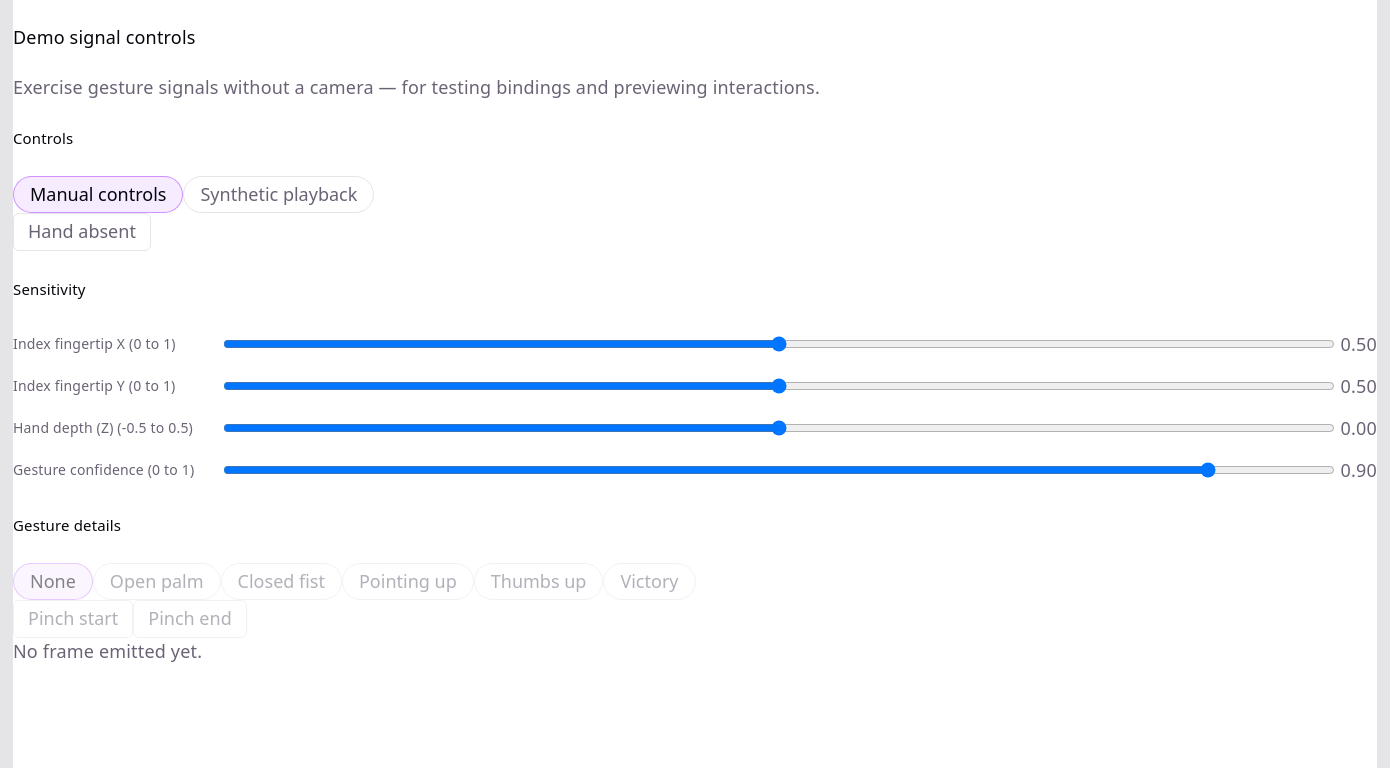
Test: DemoControlsPanel › Step advances exactly one scripted entry per click, deterministically
Click the radio button labelled "Synthetic playback": [279, 195] box x1=184 y1=176 x2=374 y2=213
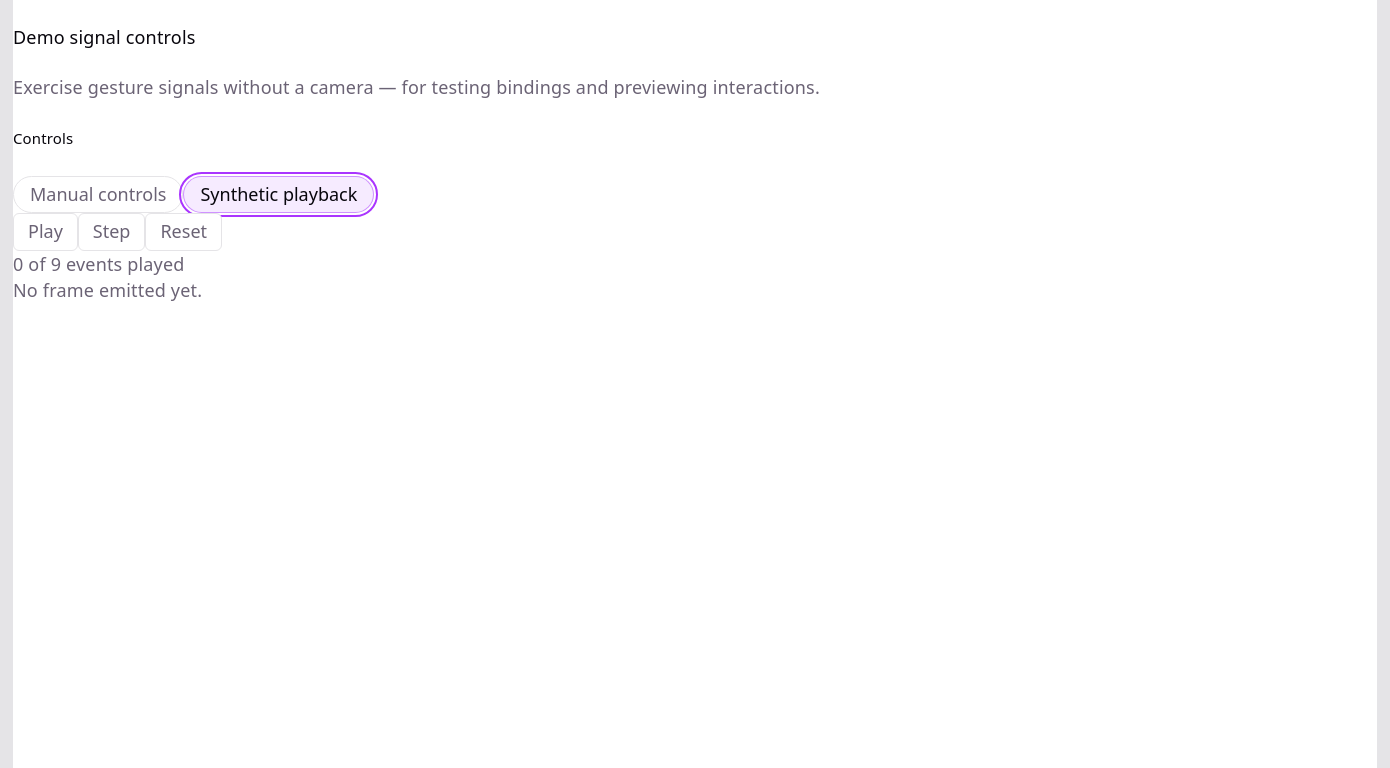
Click the button "Step": [112, 232] box x1=78 y1=213 x2=145 y2=251
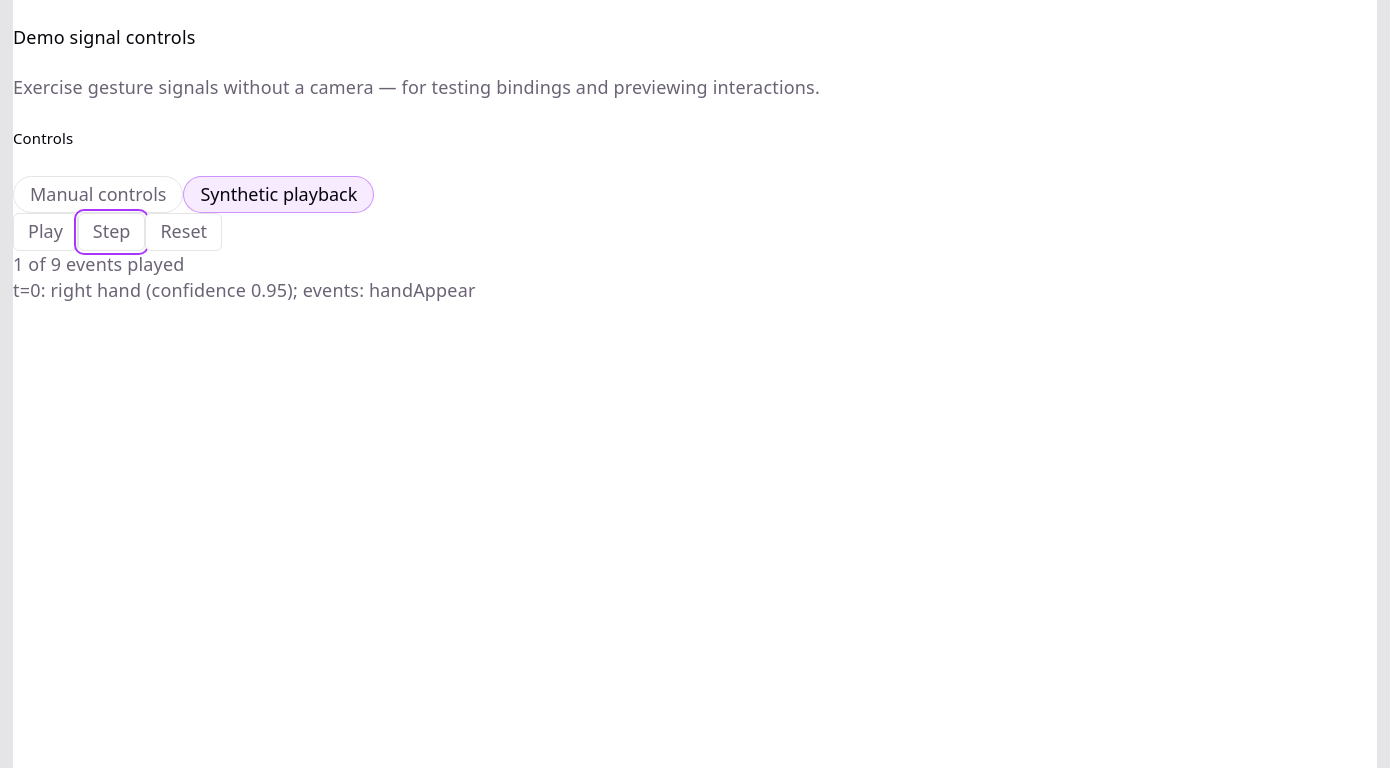
Now the text "1 of 9 events played" is shown, box x1=13 y1=252 x2=185 y2=276
Now the message "t=0: right hand (confidence 0.95); events: handAppear" is shown, box x1=13 y1=278 x2=476 y2=302
